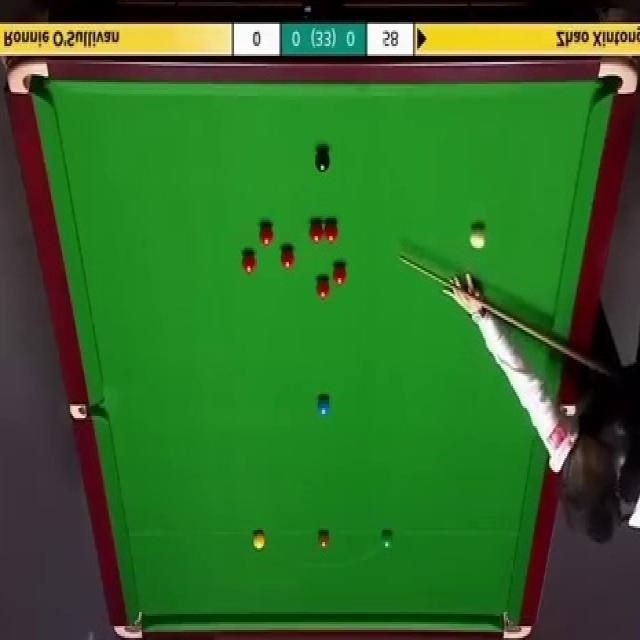pocket: (594, 55, 640, 97), (7, 60, 49, 97), (500, 608, 530, 640), (112, 611, 144, 640), (69, 405, 104, 420)
